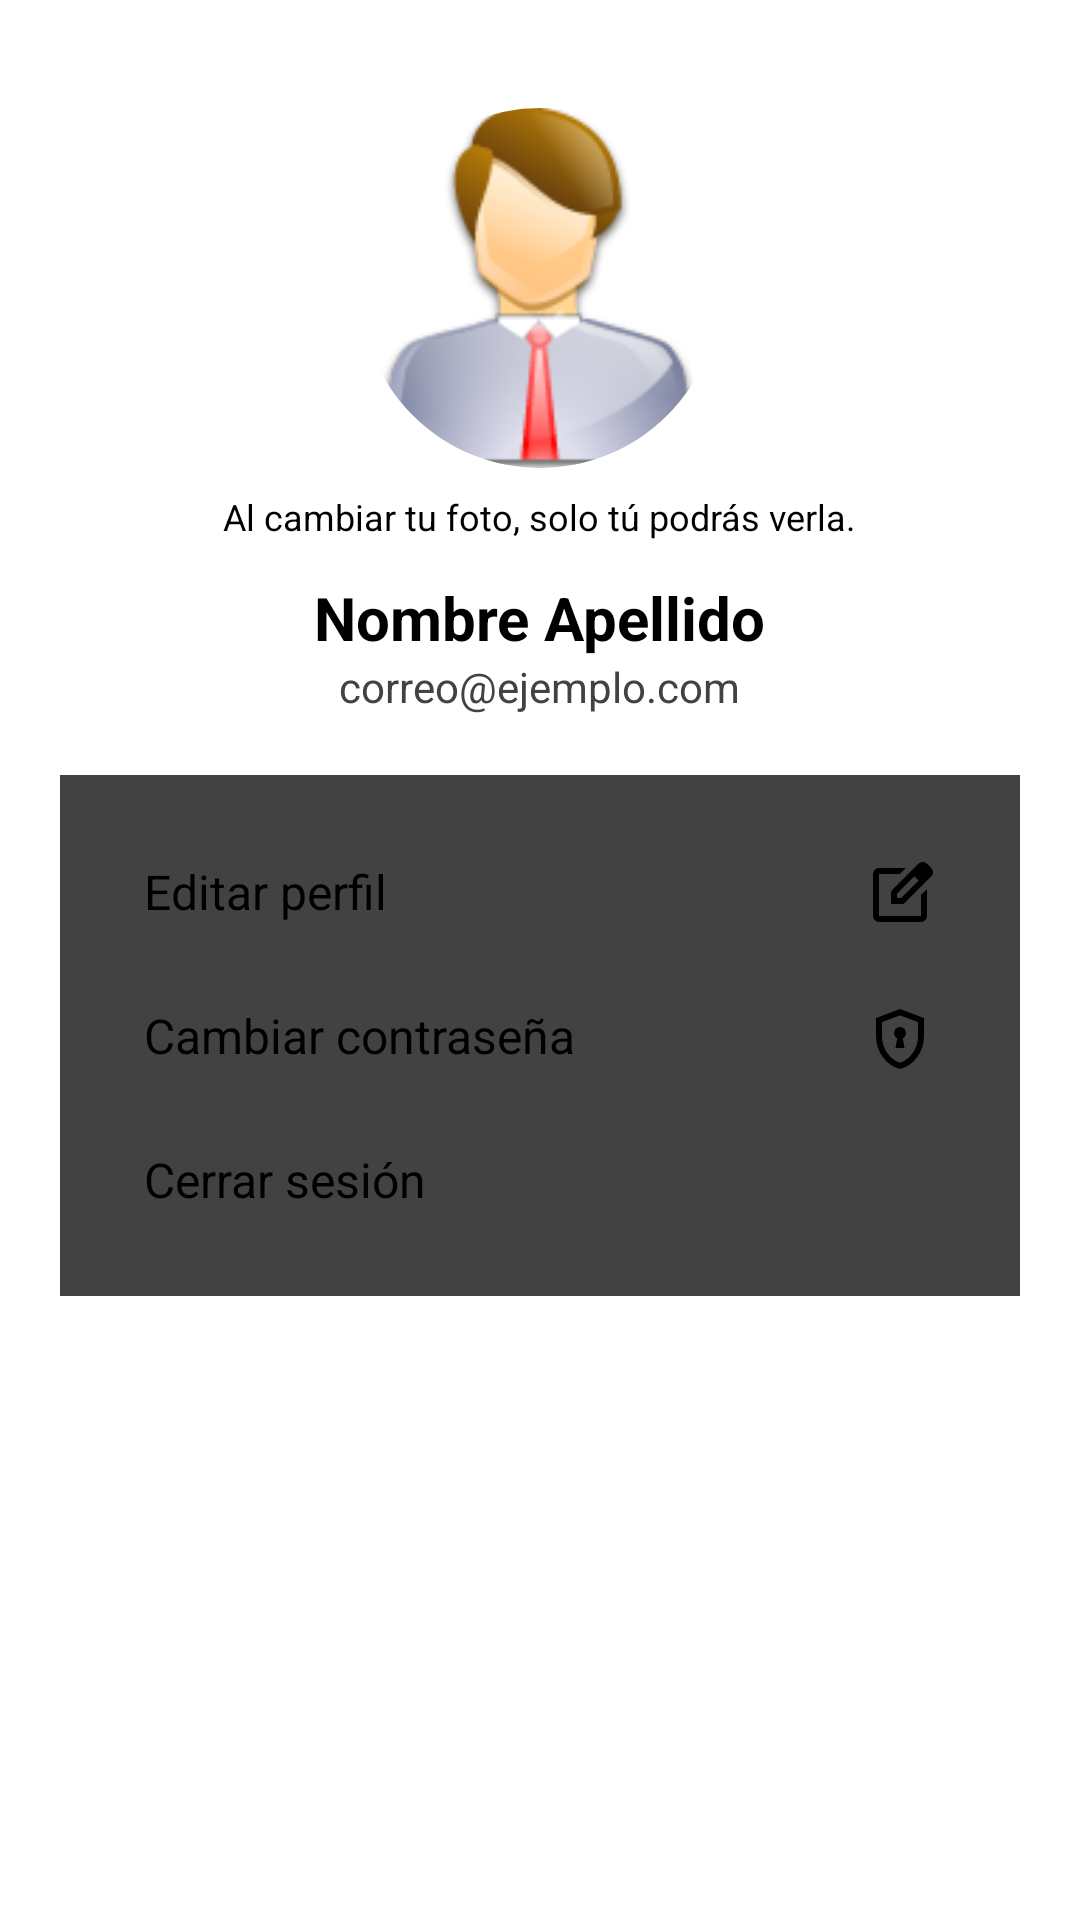

Locate icon controls on the screen. Image size 1080w x 1920h, boxes as (x1,y1,x2,y2).
user: (386,108,690,468)
